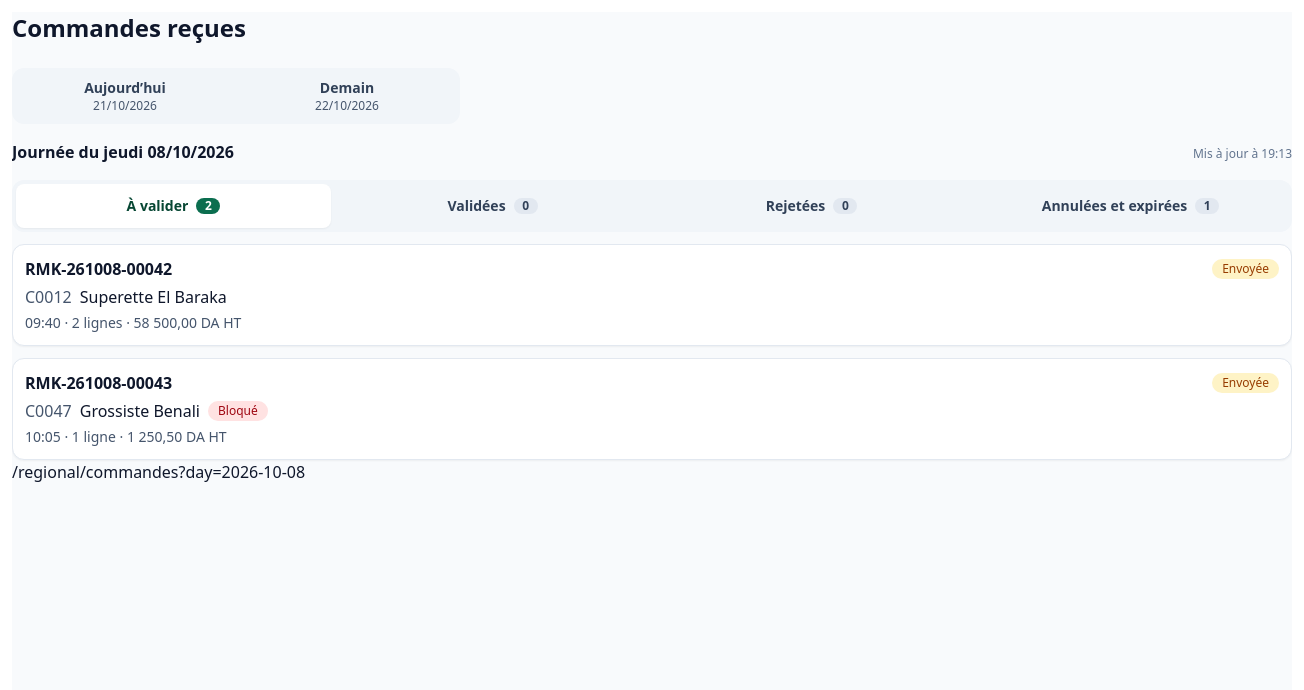
Test: regional orders — list › shows the cards of a phone and opens the detail of an order
This screenshot has width=1304, height=690.
Expected: the list item that starts with "RMK-261008-00043" shows "Bloqué", x1=12 y1=358 x2=1292 y2=460
Expected: the list item that starts with "RMK-261008-00043" shows "10:05 · 1 ligne · 1 250,50 DA HT", x1=12 y1=358 x2=1292 y2=460
Click the link that starts with "RMK-261008-00042".
click(99, 269)  # box x1=12 y1=244 x2=1292 y2=346
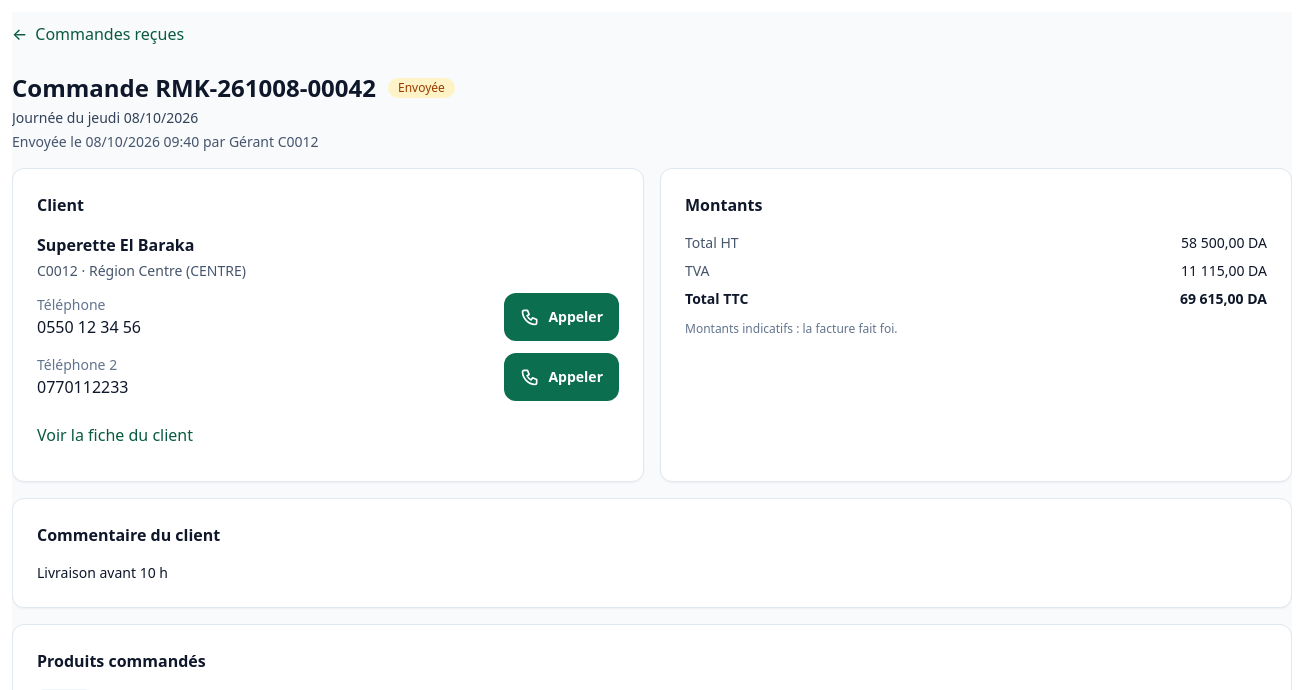
Expected: the heading "Commande RMK-261008-00042" is shown, x1=12 y1=72 x2=376 y2=104
